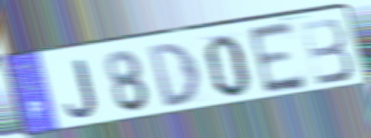0: (203, 33, 253, 99)
8: (104, 49, 151, 115)
B: (298, 16, 356, 87)
D: (145, 40, 202, 110)
E: (245, 19, 310, 98)
J: (63, 57, 99, 119)
